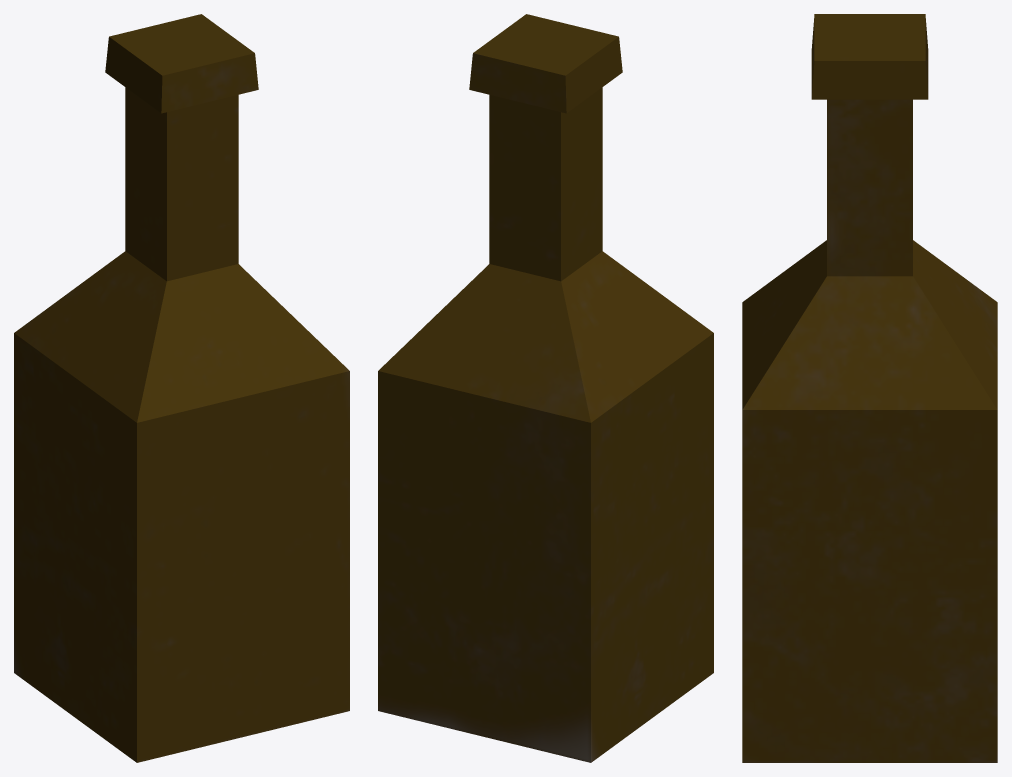
Rendered from Bottle_A.fbx.
3 views of the same model, side by side, from view 1: azimuth 30°, elevation 25°; view 2: azimuth 150°, elevation 25°; view 3: azimuth 270°, elevation 25° (orthographic). The views are drawn at different scales.
Visible parts, largest first — view 1: Bottle A; view 2: Bottle A; view 3: Bottle A.
Part boxes in pixels (x1=…): Bottle A: x1=14, y1=14, x2=349, y2=762; Bottle A: x1=378, y1=14, x2=713, y2=762; Bottle A: x1=742, y1=14, x2=997, y2=762.
Bounding box in the file's own units: 16.33 × 47.42 × 16.33.
